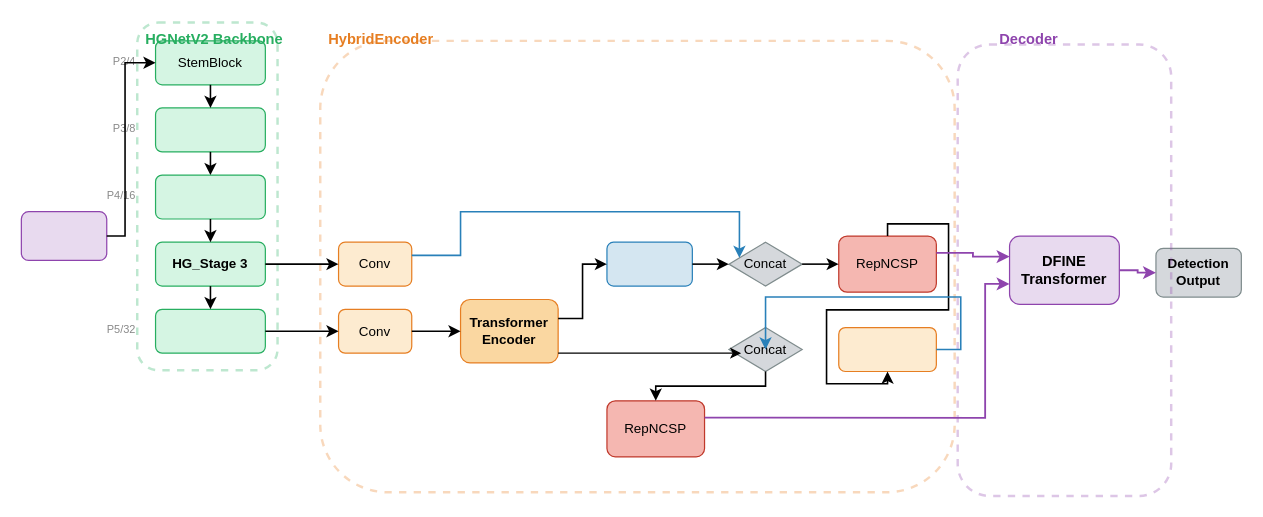
Image size: 1263x517. Some labels were removed from this diagram. The centre of each missing label's shape, as x and y in pixels:
"HG_Stage 1" goes at point 209,129.
"HG_Stage 2" goes at point 209,196.
"HG_Stage 4" goes at point 209,330.
"Input Image" goes at point 63,235.
"SCDown" goes at point 887,348.
"Upsample" goes at point 649,263.
